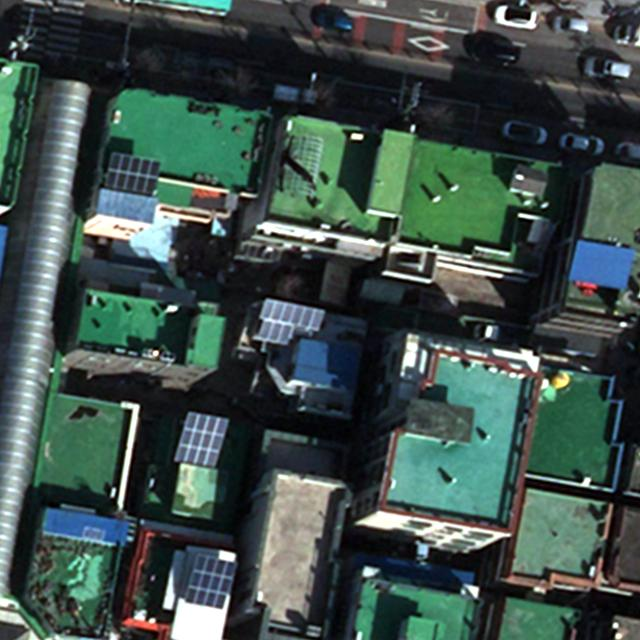panel: (259, 296, 329, 351), (172, 408, 232, 471), (181, 554, 238, 610), (101, 150, 162, 197)
